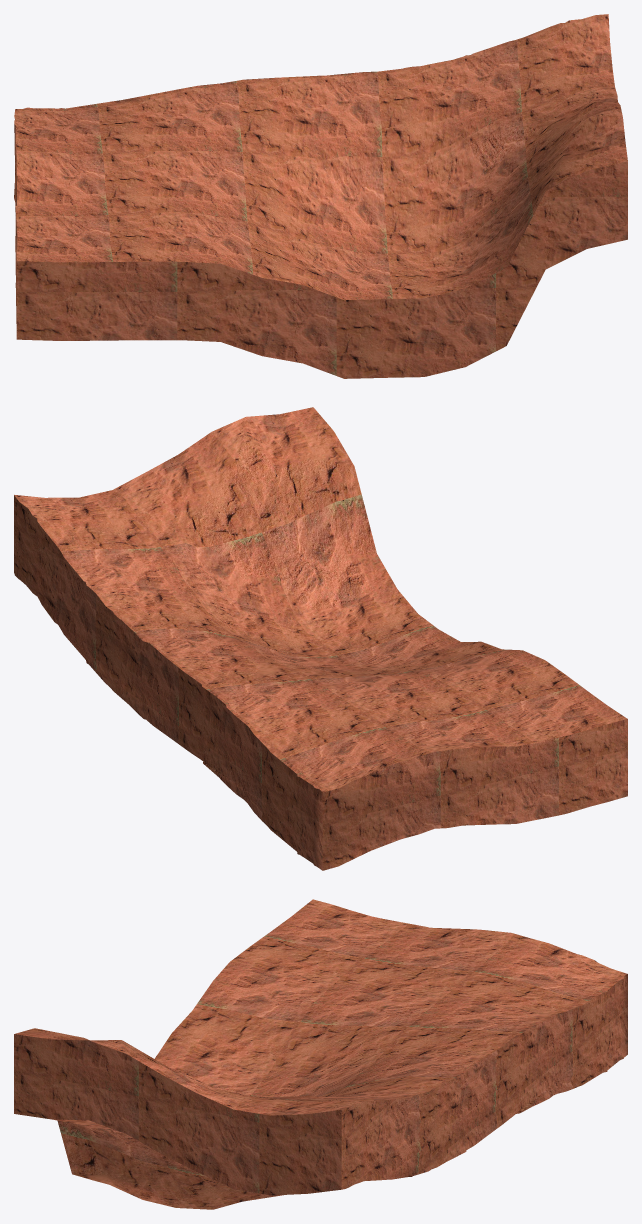
3 renders of one model, top to bottom at view 1: azimuth 30°, elevation 25°; view 2: azimuth 150°, elevation 25°; view 3: azimuth 270°, elevation 25°, orthographic. The views are drawn at different scales.
Parts seen in each view (by area): view 1: K; view 2: K; view 3: K.
Part boxes in pixels (x1,y1,x2,y2): K: (14, 14, 627, 378); K: (14, 407, 627, 870); K: (14, 899, 627, 1209).
Bounding box in the file's own units: 1718 × 624 × 1480.
Materials: 1 (1 with a texture image).
